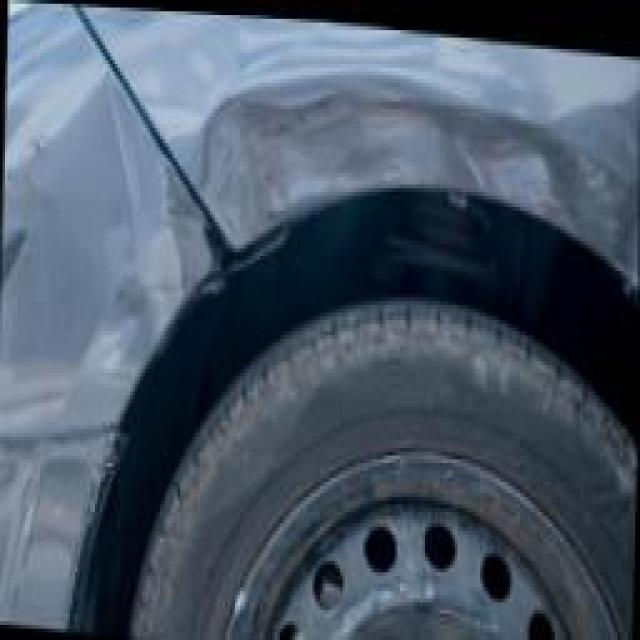Bumper: (0, 19, 200, 640)
Fender: (202, 26, 593, 269)
